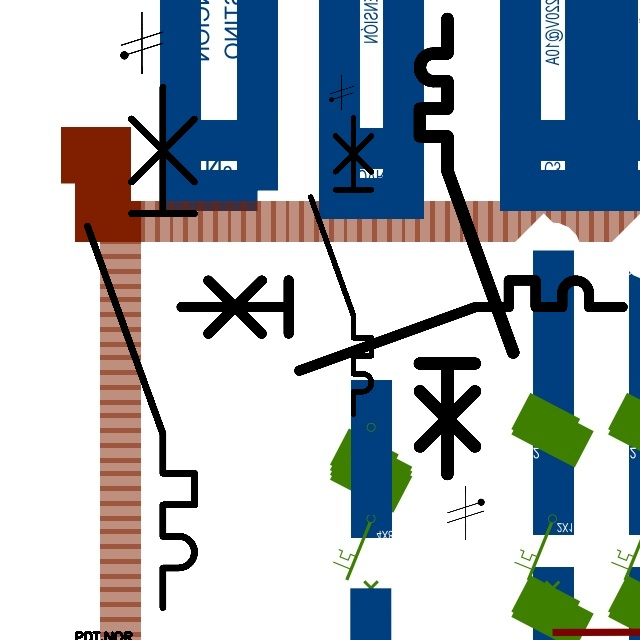interruptor_termomagnetico: (74, 73, 208, 621), (408, 7, 525, 486), (170, 269, 634, 382), (303, 110, 379, 422)
